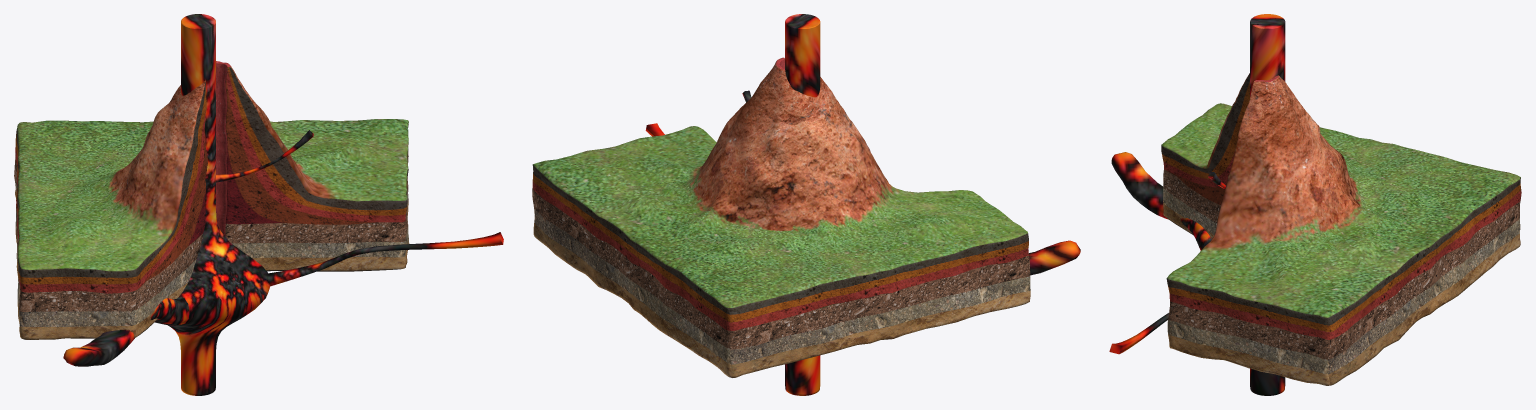
File: AFieryVentInEarthsCrust.glb
3 renders of one model, left to right at view 1: azimuth 30°, elevation 25°; view 2: azimuth 150°, elevation 25°; view 3: azimuth 270°, elevation 25°, orthographic.
Visible parts, largest first — view 1: volcan_final, lava_1; view 2: volcan_final, lava_1; view 3: volcan_final, lava_1.
Boxes of the visible parts, <box> form: volcan_final: <box>14,61,409,339</box>; lava_1: <box>63,14,503,395</box>; volcan_final: <box>532,57,1030,377</box>; lava_1: <box>645,14,1080,395</box>; volcan_final: <box>1161,73,1521,385</box>; lava_1: <box>1109,14,1285,395</box>.
Bounding box in the file's own units: 1.98 × 1.56 × 1.59.
2 materials, 2 textured.
